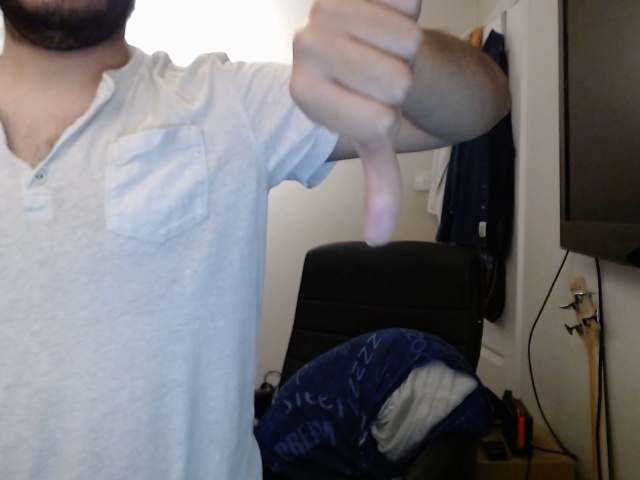Thumbs down: (285, 1, 423, 249)
